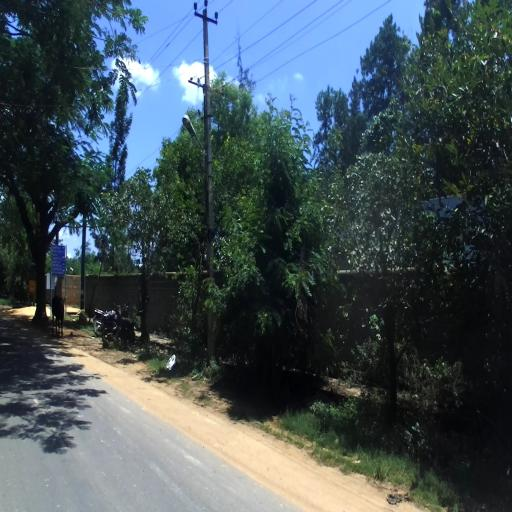street_light_0: (182, 114, 213, 183)
